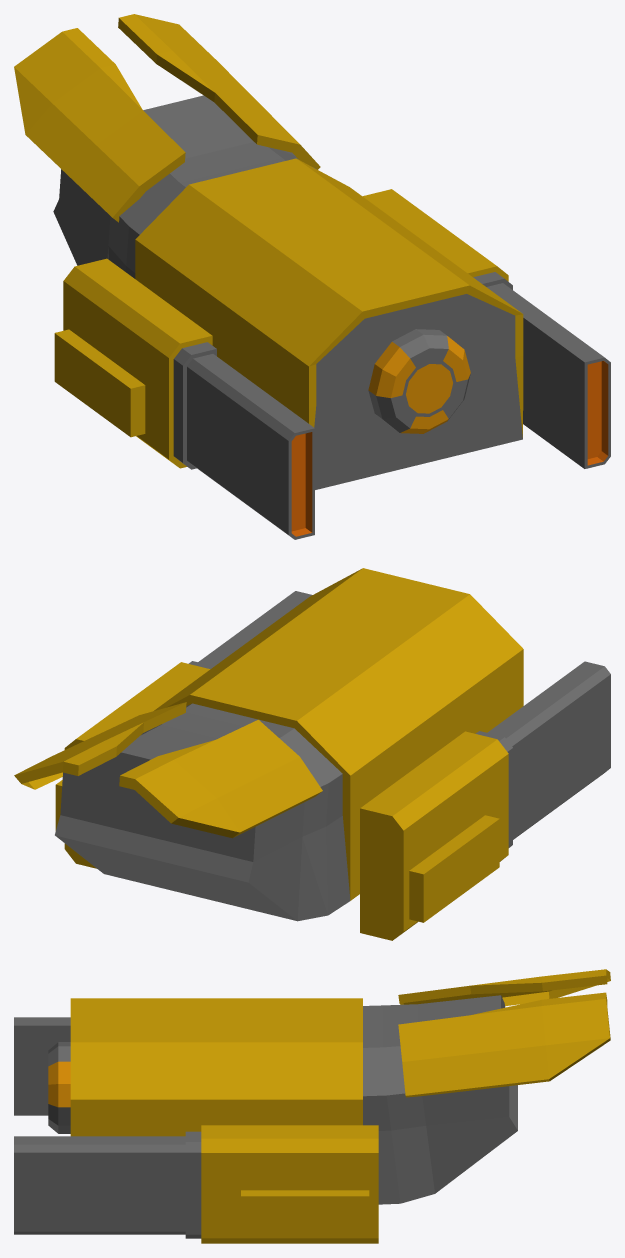
The model's file is EnemyLaser.fbx.
The picture shows the model from 3 angles, top to bottom: view 1: azimuth 30°, elevation 25°; view 2: azimuth 150°, elevation 25°; view 3: azimuth 270°, elevation 25°; orthographic projection. The views are drawn at different scales.
Visible parts, largest first — view 1: Body, RightGun, LeftGun; view 2: Body, RightGun, LeftGun; view 3: Body, LeftGun, RightGun.
Boxes of the visible parts, box(x1,y1,x2,y2) form: Body: box(14, 14, 523, 489); RightGun: box(54, 258, 314, 539); LeftGun: box(362, 189, 610, 468); Body: box(14, 568, 523, 921); RightGun: box(360, 661, 610, 940); LeftGun: box(55, 591, 312, 868); Body: box(48, 969, 610, 1204); LeftGun: box(14, 1125, 378, 1243); RightGun: box(14, 1017, 70, 1115).
Bounding box in the file's own units: 234 × 140 × 389.
